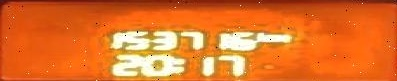0: (139, 53, 172, 76)
1: (200, 54, 215, 77), (106, 29, 121, 50), (217, 30, 229, 49)
2: (108, 54, 139, 77)
3: (151, 30, 175, 50)
5: (123, 30, 148, 50)
6: (229, 30, 255, 49)
7: (217, 53, 246, 76), (177, 29, 205, 50)
X: (172, 56, 187, 73), (273, 32, 294, 43), (255, 30, 271, 43)
